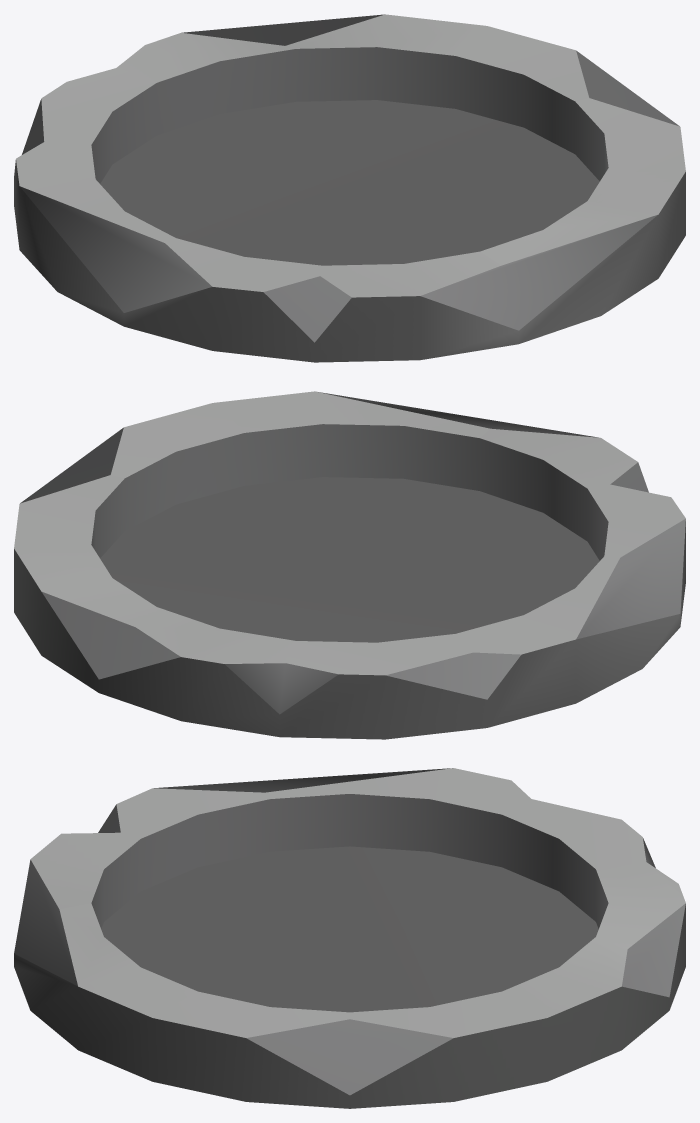
The model's file is button_area2.fbx.
3 views of the same model, one above another, from view 1: azimuth 30°, elevation 25°; view 2: azimuth 150°, elevation 25°; view 3: azimuth 270°, elevation 25° (orthographic).
Visible parts, largest first — view 1: button_area2; view 2: button_area2; view 3: button_area2.
Boxes of the visible parts, x1,y1,x2,y2 form: button_area2: [14, 14, 685, 362]; button_area2: [14, 391, 685, 739]; button_area2: [14, 768, 685, 1108].
Bounding box in the file's own units: 23.97 × 2.51 × 23.97.
